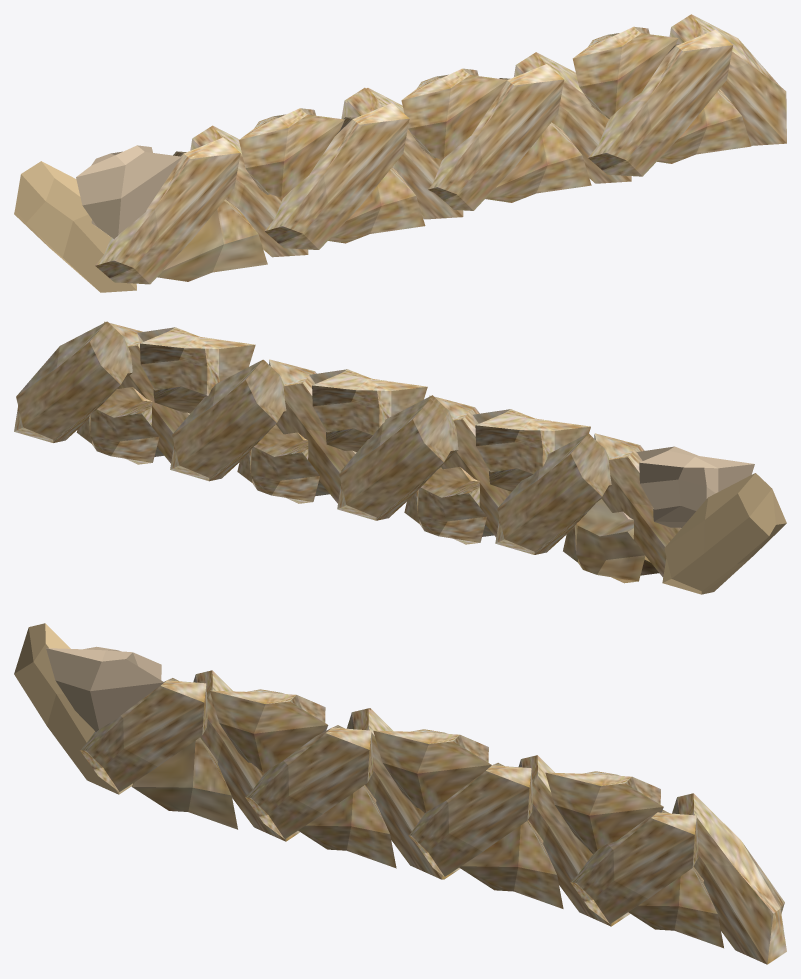
Rendered from ParedesConTexturas.fbx.
The picture shows the model from 3 angles, top to bottom: view 1: azimuth 30°, elevation 25°; view 2: azimuth 150°, elevation 25°; view 3: azimuth 330°, elevation 25°; orthographic projection.
Visible parts, largest first — view 1: Pared de piedras; view 2: Pared de piedras; view 3: Pared de piedras.
Boxes of the visible parts, <box> form: Pared de piedras: <box>14,14,786,292</box>; Pared de piedras: <box>14,321,786,594</box>; Pared de piedras: <box>14,623,786,964</box>.
Size of the model in its own units: 1154 by 218 by 80.81.
1 material, 1 textured.
